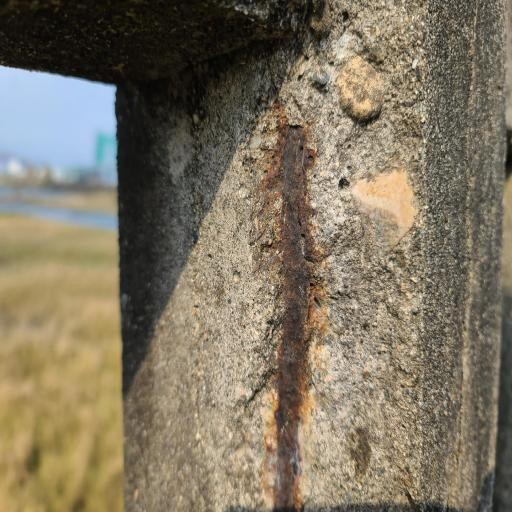exposed_rebar: (274, 126, 311, 510)
